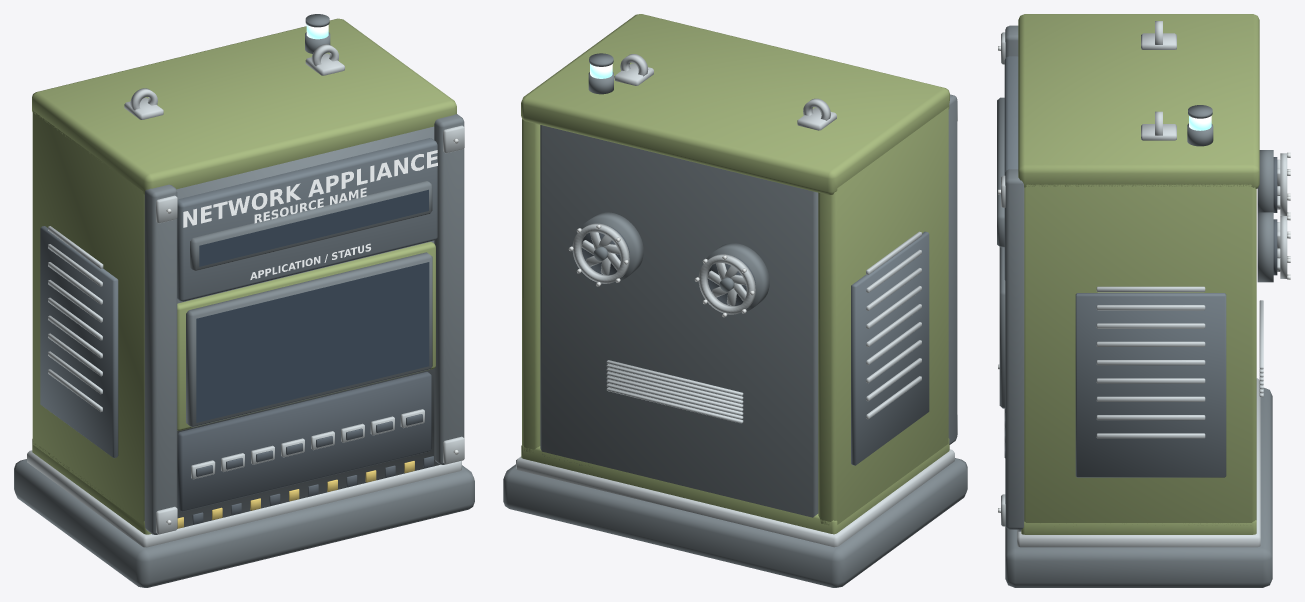
File: network_appliance_ultra.glb
3 views of the same model, side by side, from view 1: azimuth 30°, elevation 25°; view 2: azimuth 150°, elevation 25°; view 3: azimuth 270°, elevation 25° (orthographic). The views are drawn at different scales.
Visible parts, largest first — view 1: Roof_olive, LiveViewSurface_glass, SideWall_olive, CornerPost_frame, Skid_frame, PatchPanel_black, FrontHeader_graphite, SideServicePanel_graphite, SealFront_frame, SkidDeck_steel, LiveViewSurfaceFrame_frame, ResourceNameSurface_glass (+14 smaller); view 2: BackWall_frame, Roof_olive, SideWall_olive, Skid_frame, SideServicePanel_graphite, SkidDeck_steel, KickPlate_olive, RearFan_steel, RearVent_steel, CornerPost_frame, SideLouver_steel, RearFan_frame (+3 smaller); view 3: SideWall_olive, Roof_olive, SideServicePanel_graphite, Skid_frame, CornerPost_frame, SideLouver_steel, SkidDeck_steel, KickPlate_olive, RearFan_frame, FrontHeader_graphite, RearFan_steel, LiveViewSurfaceFrame_frame (+7 smaller).
Boxes of the visible parts, bbox=[...] form: Roof_olive: bbox=[32, 18, 456, 194]; LiveViewSurface_glass: bbox=[196, 262, 429, 422]; SideWall_olive: bbox=[32, 111, 144, 524]; CornerPost_frame: bbox=[144, 114, 464, 534]; Skid_frame: bbox=[14, 459, 474, 587]; PatchPanel_black: bbox=[177, 372, 431, 511]; FrontHeader_graphite: bbox=[177, 138, 437, 301]; SideServicePanel_graphite: bbox=[40, 226, 118, 457]; SealFront_frame: bbox=[176, 126, 439, 527]; SkidDeck_steel: bbox=[27, 450, 461, 547]; LiveViewSurfaceFrame_frame: bbox=[186, 252, 432, 427]; ResourceNameSurface_glass: bbox=[199, 189, 428, 266]; BackWall_frame: bbox=[540, 125, 818, 517]; Roof_olive: bbox=[521, 14, 949, 195]; SideWall_olive: bbox=[522, 107, 948, 525]; Skid_frame: bbox=[503, 458, 967, 587]; SideServicePanel_graphite: bbox=[851, 231, 929, 465]; SkidDeck_steel: bbox=[516, 449, 954, 547]; KickPlate_olive: bbox=[521, 438, 949, 534]; RearFan_steel: bbox=[572, 223, 755, 314]; RearVent_steel: bbox=[606, 360, 743, 423]; CornerPost_frame: bbox=[948, 94, 957, 444]; SideLouver_steel: bbox=[866, 231, 921, 419]; RearFan_frame: bbox=[580, 212, 769, 312]; SideWall_olive: bbox=[1024, 184, 1256, 525]; Roof_olive: bbox=[1018, 14, 1259, 188]; SideServicePanel_graphite: bbox=[1075, 293, 1226, 477]; Skid_frame: bbox=[1005, 388, 1272, 587]; CornerPost_frame: bbox=[1005, 25, 1024, 529]; SideLouver_steel: bbox=[1096, 286, 1205, 438]; SkidDeck_steel: bbox=[1017, 378, 1260, 547]; KickPlate_olive: bbox=[1021, 520, 1256, 534]; RearFan_frame: bbox=[1257, 150, 1273, 282]; FrontHeader_graphite: bbox=[1004, 56, 1018, 280]; RearFan_steel: bbox=[1277, 153, 1287, 278]; LiveViewSurfaceFrame_frame: bbox=[999, 247, 1005, 408].
Bounding box in the file's own units: 2 × 2.48 × 1.47.
